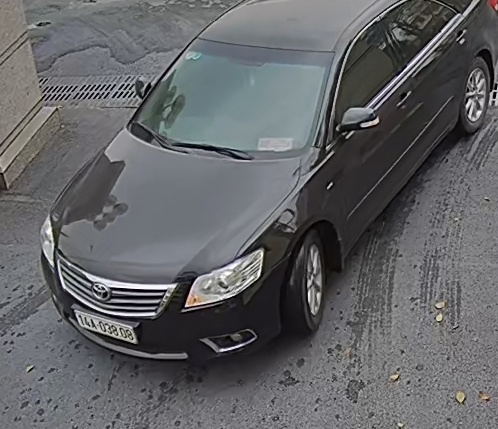vehicle plate: (70, 306, 140, 348)
